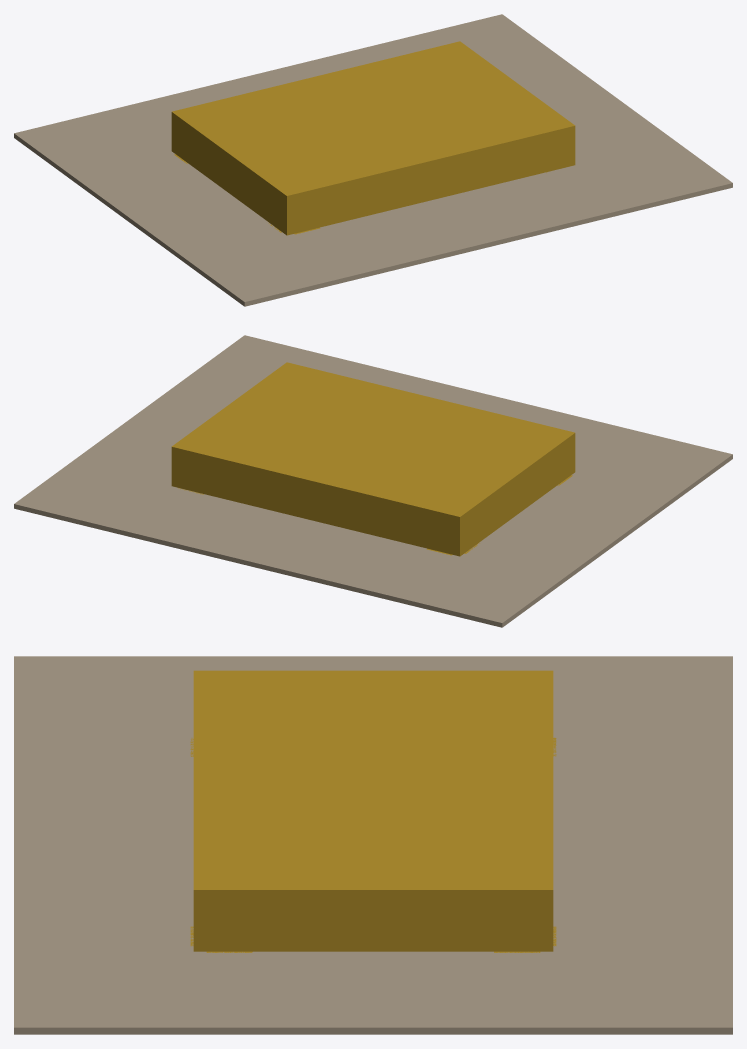
File: stage_03_foundation_reinforcement.glb
3 renders of one model, top to bottom at view 1: azimuth 30°, elevation 25°; view 2: azimuth 150°, elevation 25°; view 3: azimuth 270°, elevation 25°, orthographic. The views are drawn at different scales.
Parts seen in each view (by area): view 1: world; view 2: world; view 3: world.
Part boxes in pixels (left/top/right/bottom): world: left=14, top=14, right=732, bottom=306; world: left=14, top=335, right=732, bottom=627; world: left=14, top=656, right=732, bottom=1034.
Bounding box in the file's own units: 11 × 1.65 × 9.
